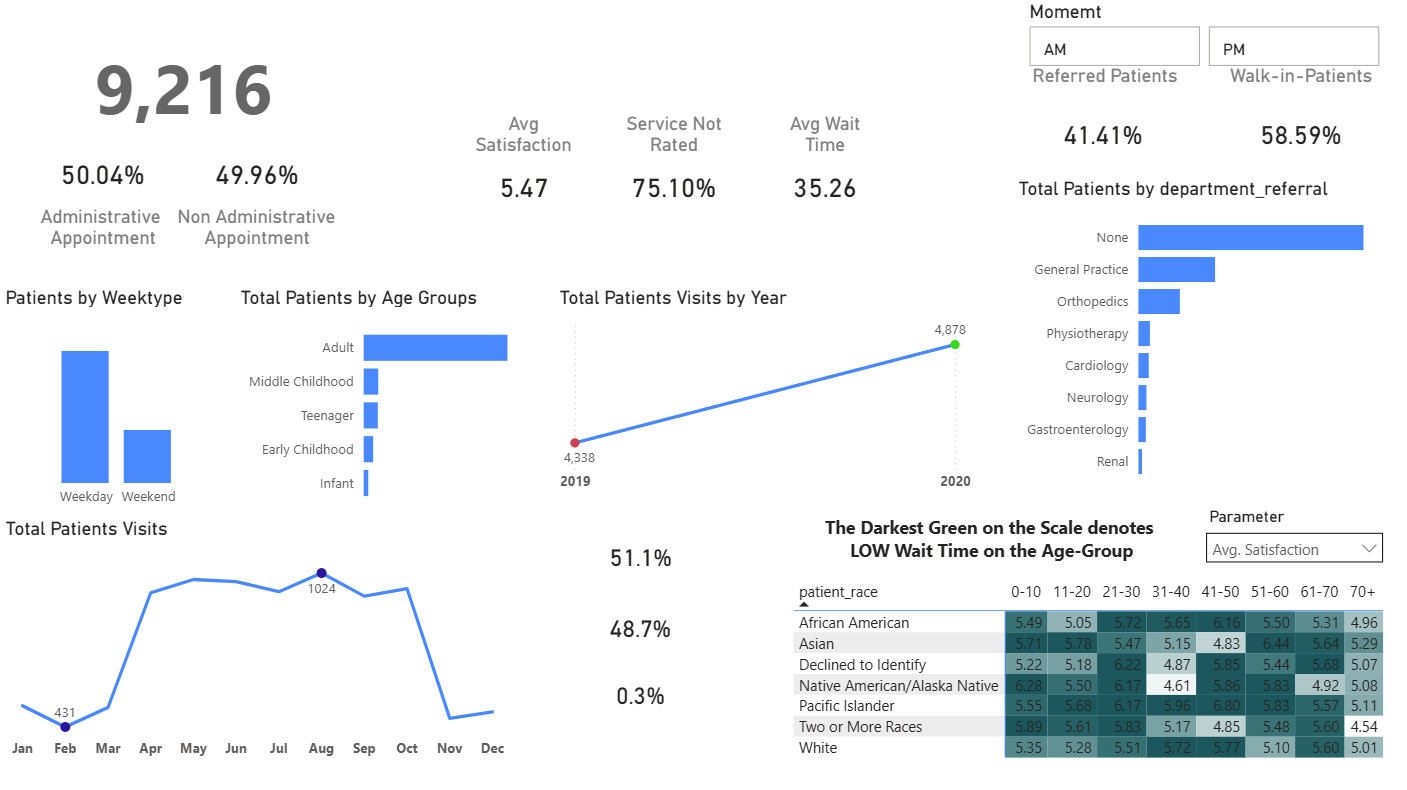

What the dashboard file says about the page in this screenshot:
{"tool":"powerbi","page":{"name":"Page 1","canvas":[1280,720],"ordinal":0},"visuals":[{"type":"card","fields":{"Values":["Calculations.Total Patients"]},"box":[72,50,216,116],"z":0},{"type":"card","fields":{"Values":["Calculations.% None - Administrative Schedule"]},"box":[194,143,105.5,60.9],"z":1000},{"type":"card","fields":{"Values":["Calculations.% Administrative Schedule"]},"box":[56.7,143,99.1,60.9],"z":2000},{"type":"card","title":"Avg Satisfaction","fields":{"Values":["Calculations.Average Satisfaction Score"]},"box":[368,130,120,67],"z":3000},{"type":"card","title":"Service Not Rated","fields":{"Values":["Calculations.% No Rating"]},"box":[564,130,115,67],"z":4000},{"type":"card","title":"Avg Wait Time","fields":{"Values":["Calculations.Average Wait Time"]},"box":[758,130,109,67],"z":5000},{"type":"pivotTable","fields":{"Values":["Calculations.Average Satisfaction Score"],"Rows":["Patients Dataset.patient_race"],"Columns":["Patients Dataset.Age Buckets"]},"box":[711,536,551,173],"z":6000},{"type":"slicer","fields":{"Values":["Parameter.Parameter"]},"box":[1071,485,181,59],"z":7000},{"type":"clusteredBarChart","fields":{"Category":["Patients Dataset.Age Groups"],"Y":["Calculations.Total Patients"]},"box":[234,285,249,201],"z":8000},{"type":"areaChart","title":"Total Patients Visits","fields":{"Category":["Date.Month"],"Y":["Calculations.Total Patients","Calculations.Values Max Point (Month)"]},"box":[14,491,468,228],"z":9000},{"type":"advancedSlicerVisual","fields":{"Values":["Patients Dataset.Momemt"]},"box":[940,0,329,57],"z":10000},{"type":"lineChart","title":"Total Patients Visits by Year","fields":{"Category":["Date.Year"],"Y":["Calculations.Total Patients","Calculations.Values Max Point (year)"]},"box":[491,287,383,195],"z":11000},{"type":"clusteredBarChart","fields":{"Y":["Calculations.Total Patients"],"Category":["Patients Dataset.department_referral"]},"box":[889,191,380,287],"z":12000},{"type":"card","fields":{"Values":["Calculations.% Un Reffered Patients"]},"box":[1094.1,107.7,146.4,58.2],"z":13000},{"type":"card","fields":{"Values":["Calculations.HitMap Caption"]},"box":[712,478,370,67],"z":14000},{"type":"card","fields":{"Values":["Calculations.% Reffered Patients"]},"box":[915.9,107.7,143.6,58.2],"z":15000},{"type":"textbox","box":[33.1,197.5,147.3,50],"z":16000},{"type":"textbox","box":[169.5,197.5,154.5,50],"z":17000},{"type":"textbox","box":[912.3,68.6,154.5,39.1],"z":18000},{"type":"textbox","box":[1090.5,68.6,154.5,39.1],"z":19000},{"type":"clusteredColumnChart","title":"Patients by Weektype","fields":{"Y":["Calculations.Total Patients"],"Category":["Date.Weektype"]},"box":[15,284,219,202],"z":20000},{"type":"card","fields":{"Values":["Calculations.% Female Visit"]},"box":[546.7,580.8,139.2,52.1],"z":21000},{"type":"card","fields":{"Values":["Calculations.% Unknown Visit"]},"box":[544.9,641.9,139.2,61],"z":22000},{"type":"card","fields":{"Values":["Calculations.% Male Visit"]},"box":[546.7,514.4,139.2,51.2],"z":23000},{"type":"textbox","box":[72,0,654,57],"z":24000},{"type":"textbox","box":[96,59,175,29],"z":25000},{"type":"PBI_CV_25997FEB_F466_44FA_B562_AC4063283C4C","fields":{"measure":["Calculations.Average Satisfaction Score"],"axis":["Date.Month"]},"box":[368,191,123,85],"z":26000},{"type":"PBI_CV_25997FEB_F466_44FA_B562_AC4063283C4C","fields":{"measure":["Calculations.% No Rating"],"axis":["Date.Month"]},"box":[560,191,123,85],"z":27000},{"type":"PBI_CV_25997FEB_F466_44FA_B562_AC4063283C4C","fields":{"measure":["Calculations.Average Wait Time"],"axis":["Date.Month"]},"box":[751,191,123,85],"z":28000},{"type":"textbox","box":[532,486,164,29],"z":29000},{"type":"textbox","box":[531.5,506.3,163.4,29.6],"z":30000},{"type":"textbox","box":[531.5,565.6,163.4,29.6],"z":31000},{"type":"textbox","box":[533.3,632.9,163.4,29.6],"z":32000}]}

Visuals, with their boxes in screenshot pixels (x1, y1, x2, y2), scaled from the page's 1280x720 canvas onto the 1407x790 screenshot:
card - Calculations.Total Patients: (79,55,317,182)
card - Calculations.% None - Administrative Schedule: (213,157,329,224)
card - Calculations.% Administrative Schedule: (62,157,171,224)
"Avg Satisfaction" card: (405,143,536,216)
"Service Not Rated" card: (620,143,746,216)
"Avg Wait Time" card: (833,143,953,216)
pivotTable - Calculations.Average Satisfaction Score x Patients Dataset.patient_race: (782,588,1387,778)
slicer - Parameter.Parameter: (1177,532,1376,597)
clusteredBarChart - Patients Dataset.Age Groups x Calculations.Total Patients: (257,313,531,533)
"Total Patients Visits" areaChart: (15,539,530,789)
advancedSlicerVisual - Patients Dataset.Momemt: (1033,0,1395,63)
"Total Patients Visits by Year" lineChart: (540,315,961,529)
clusteredBarChart - Calculations.Total Patients x Patients Dataset.department_referral: (977,210,1395,524)
card - Calculations.% Un Reffered Patients: (1203,118,1364,182)
card - Calculations.HitMap Caption: (783,524,1189,598)
card - Calculations.% Reffered Patients: (1007,118,1165,182)
textbox: (36,217,198,272)
textbox: (186,217,356,272)
textbox: (1003,75,1173,118)
textbox: (1199,75,1369,118)
"Patients by Weektype" clusteredColumnChart: (16,312,257,533)
card - Calculations.% Female Visit: (601,637,754,694)
card - Calculations.% Unknown Visit: (599,704,752,771)
card - Calculations.% Male Visit: (601,564,754,621)
textbox: (79,0,798,63)
textbox: (106,65,298,97)
PBI_CV_25997FEB_F466_44FA_B562_AC4063283C4C - Calculations.Average Satisfaction Score x Date.Month: (405,210,540,303)
PBI_CV_25997FEB_F466_44FA_B562_AC4063283C4C - Calculations.% No Rating x Date.Month: (616,210,751,303)
PBI_CV_25997FEB_F466_44FA_B562_AC4063283C4C - Calculations.Average Wait Time x Date.Month: (826,210,961,303)
textbox: (585,533,765,565)
textbox: (584,556,764,588)
textbox: (584,621,764,653)
textbox: (586,694,766,727)
